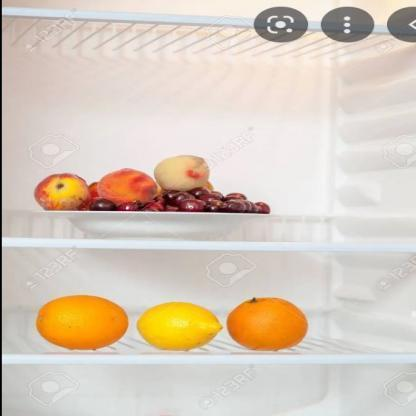lemon: (136, 302, 224, 350)
